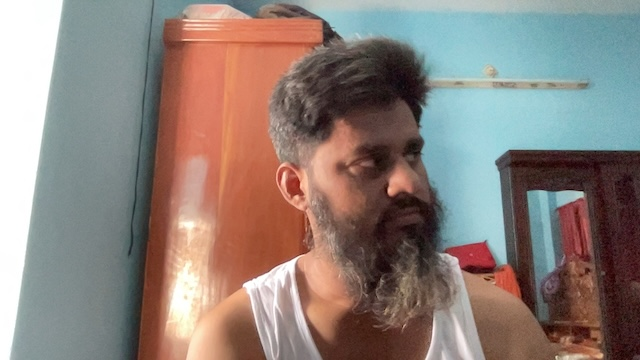Helmet: (265, 55, 448, 298)
